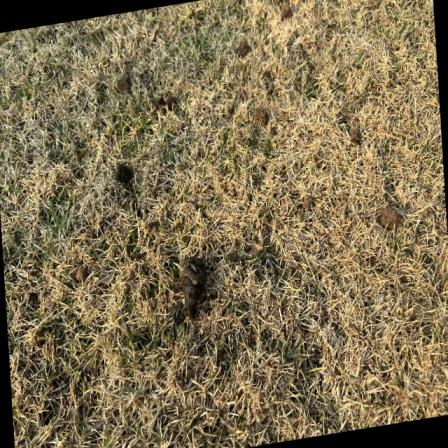dog-poop: (174, 254, 216, 317)
